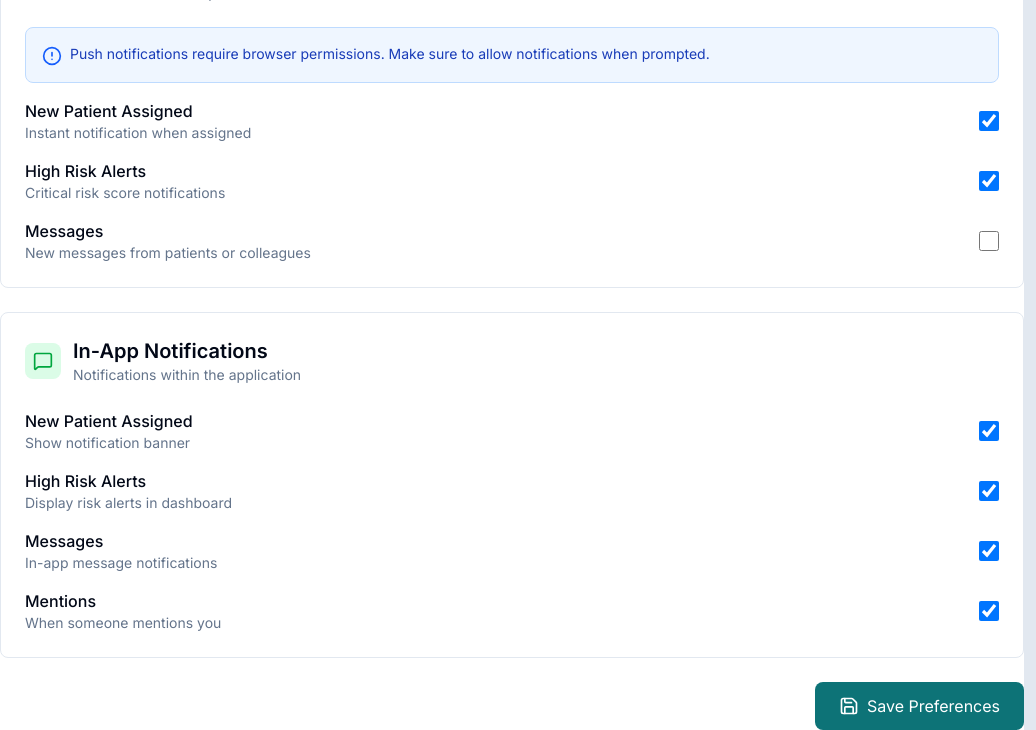
Test: NotificationSettings › should show error message on save failure
The image size is (1036, 730).
(page scrolled)
Click the button "Save Preferences" at (919, 706), box [815, 682, 1024, 729]
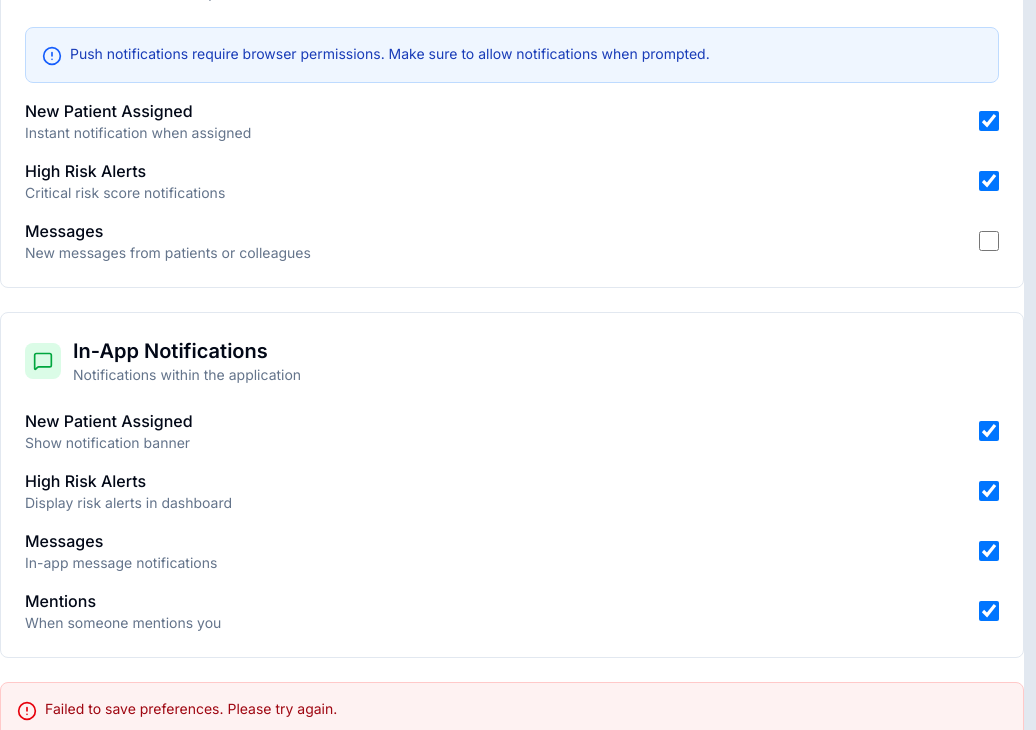
Now the text "Failed to save preferences. Please try again." is shown, box [45, 699, 337, 719]
